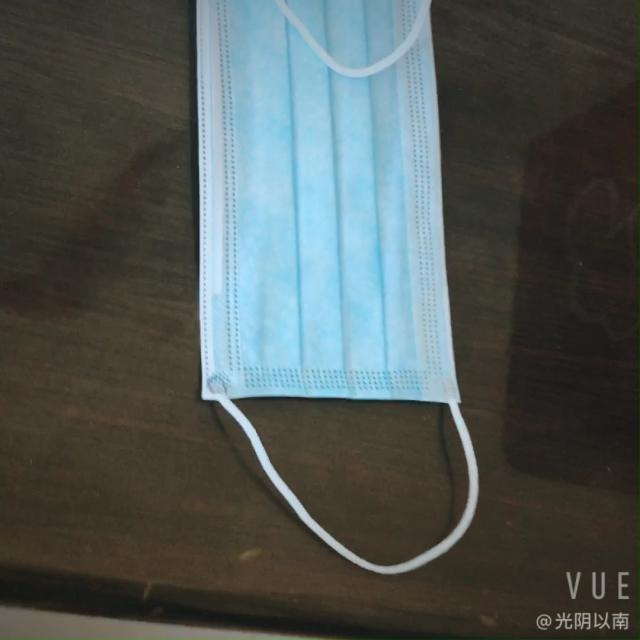non-organic waste: (179, 8, 466, 430)
